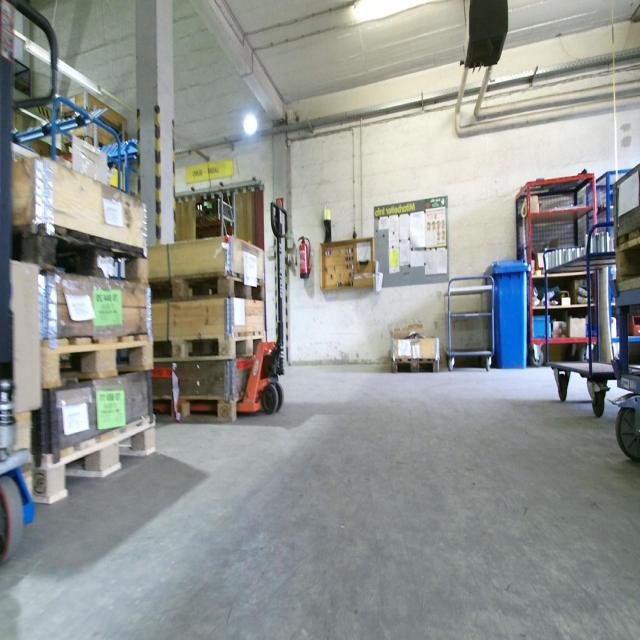pallet: (30, 408, 158, 507), (9, 221, 147, 284), (40, 324, 153, 389), (152, 329, 266, 375), (149, 269, 266, 309), (149, 389, 245, 428), (388, 357, 441, 375)
pallet_truck: (1, 1, 65, 576), (190, 191, 293, 419)
